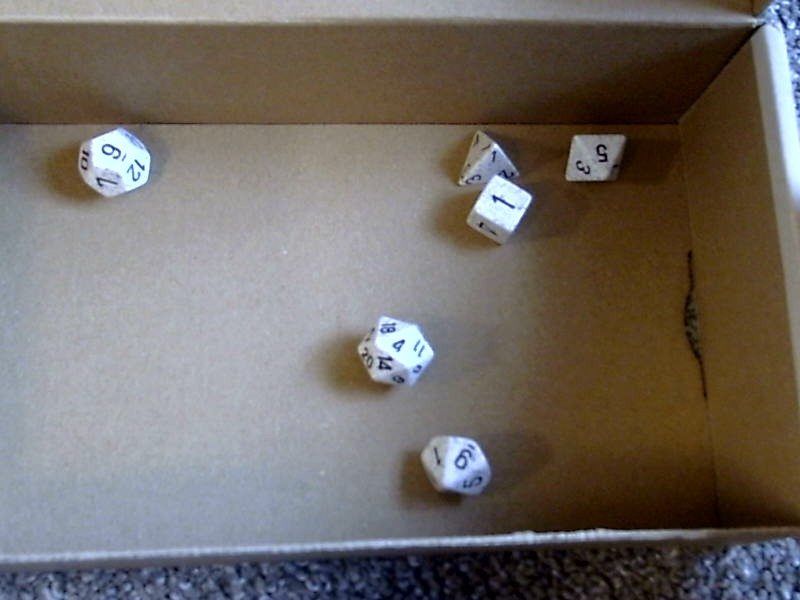d10 9: (415, 429, 501, 506)
d12 9: (69, 122, 156, 205)
d20 4: (350, 305, 442, 395)
d4 1: (448, 120, 527, 186)
d6 1: (467, 176, 542, 251)
d8 5: (558, 124, 633, 191)
